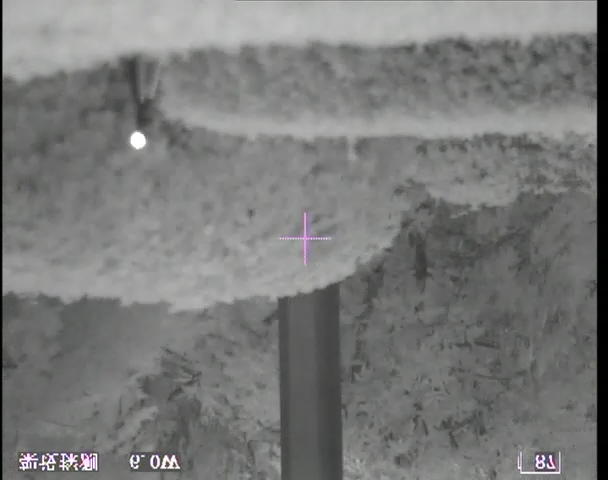my: (129, 130, 147, 151)
